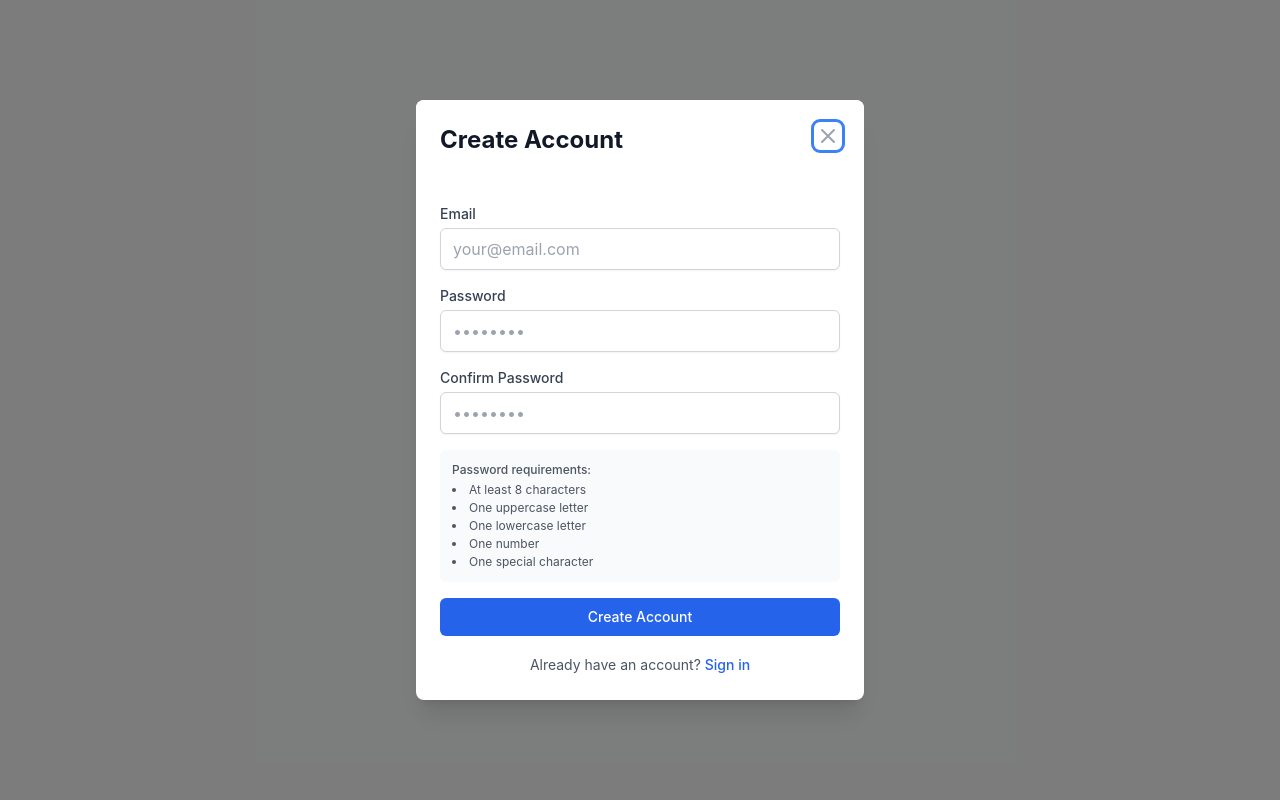
Test case: AuthModal › Sign Up Form › should validate password length
The width and height of the screenshot is (1280, 800).
Type "test@example.com" into the field labelled "Email" at (640, 249), box [440,228,840,270]
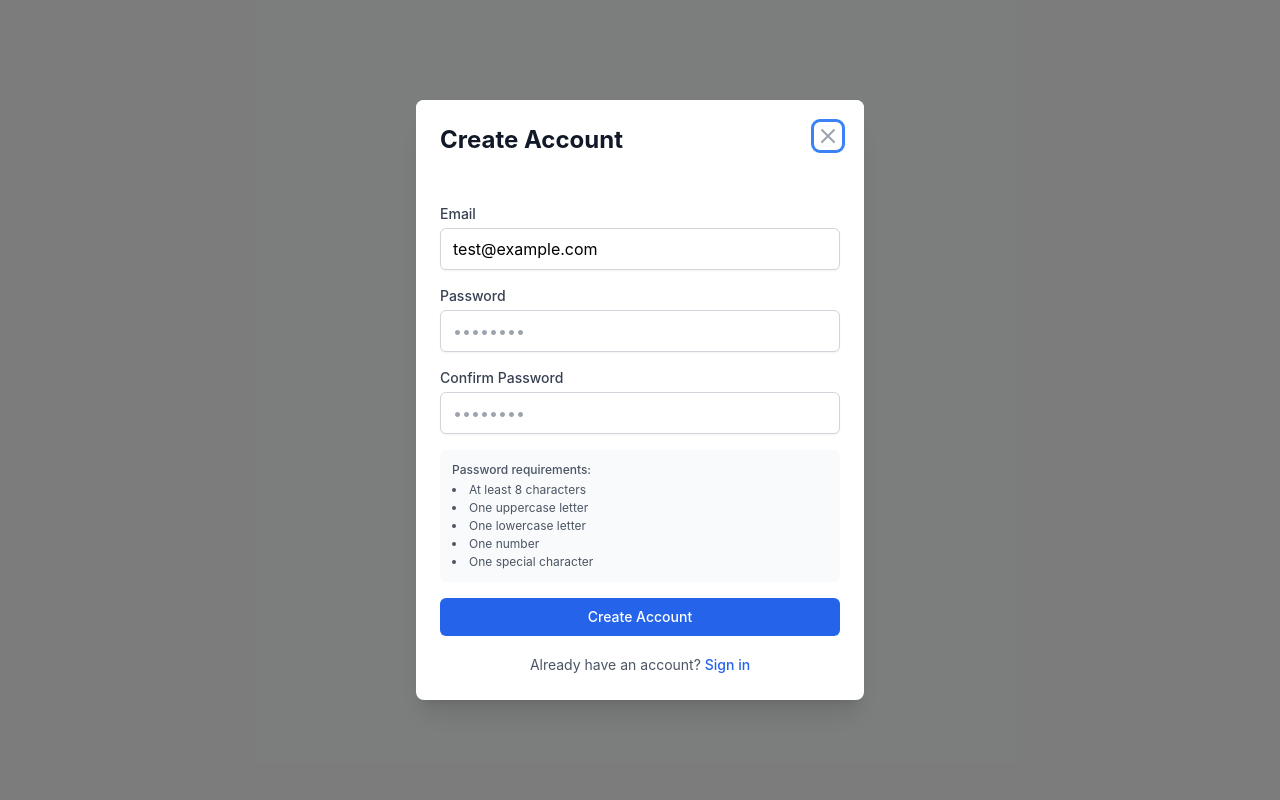
Type "Pass1!" into the password field labelled "Password" at (640, 331), box [440,310,840,352]
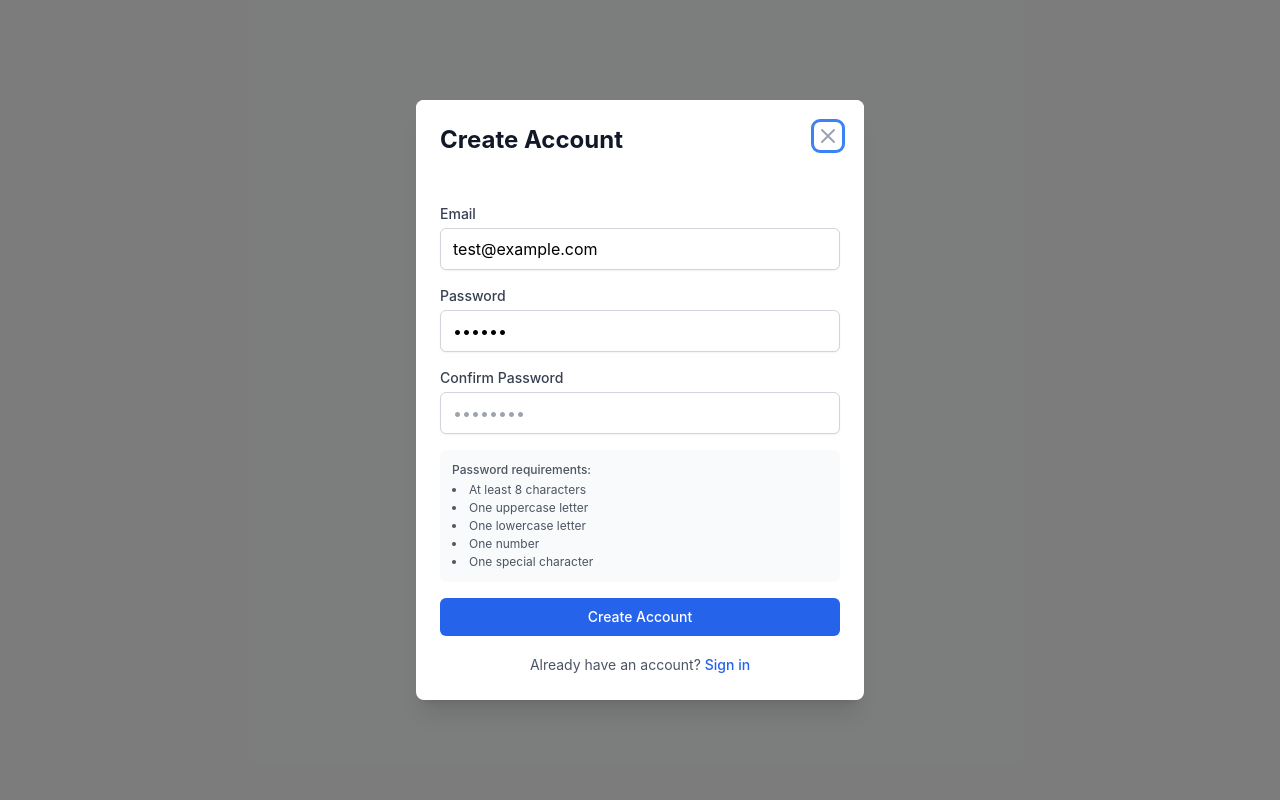
Type "Pass1!" into the password field labelled "Confirm Password" at (640, 413), box [440,392,840,434]
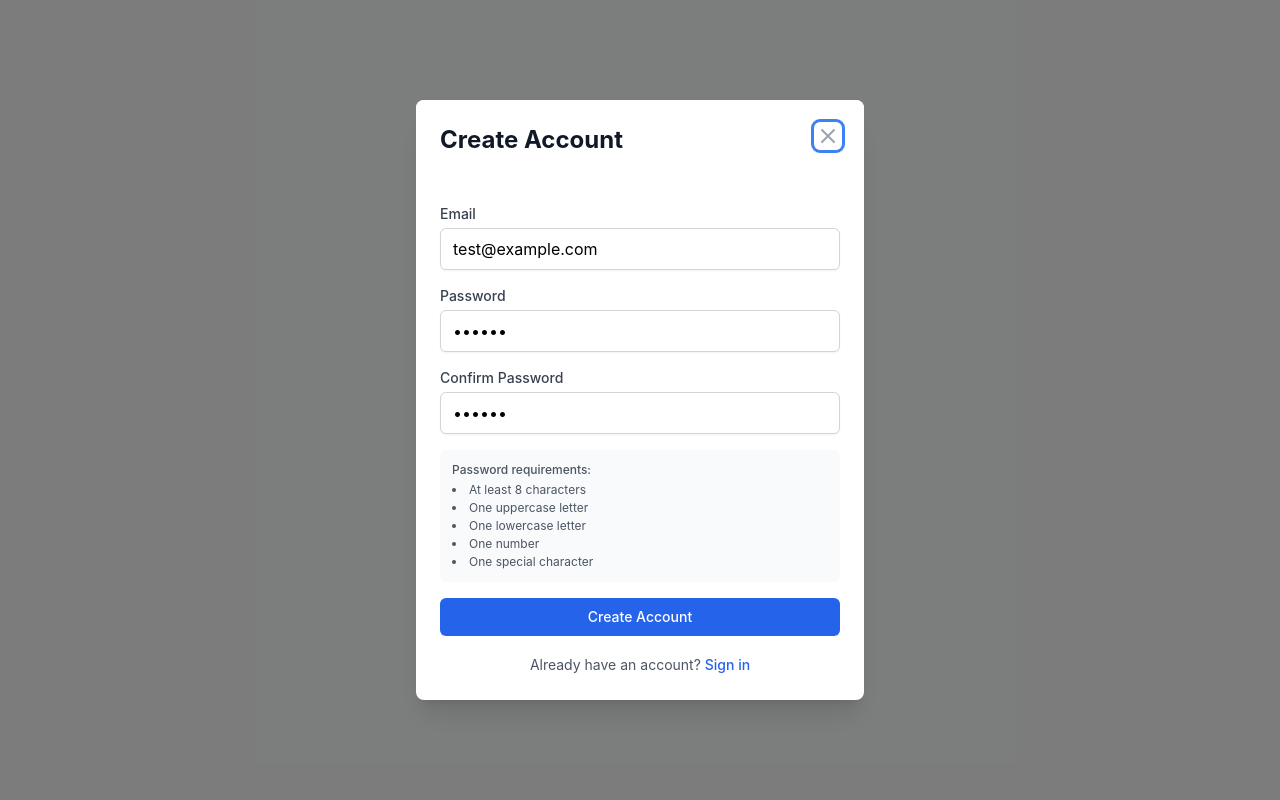
Click the button "Create Account" at (640, 617), box [440,598,840,636]
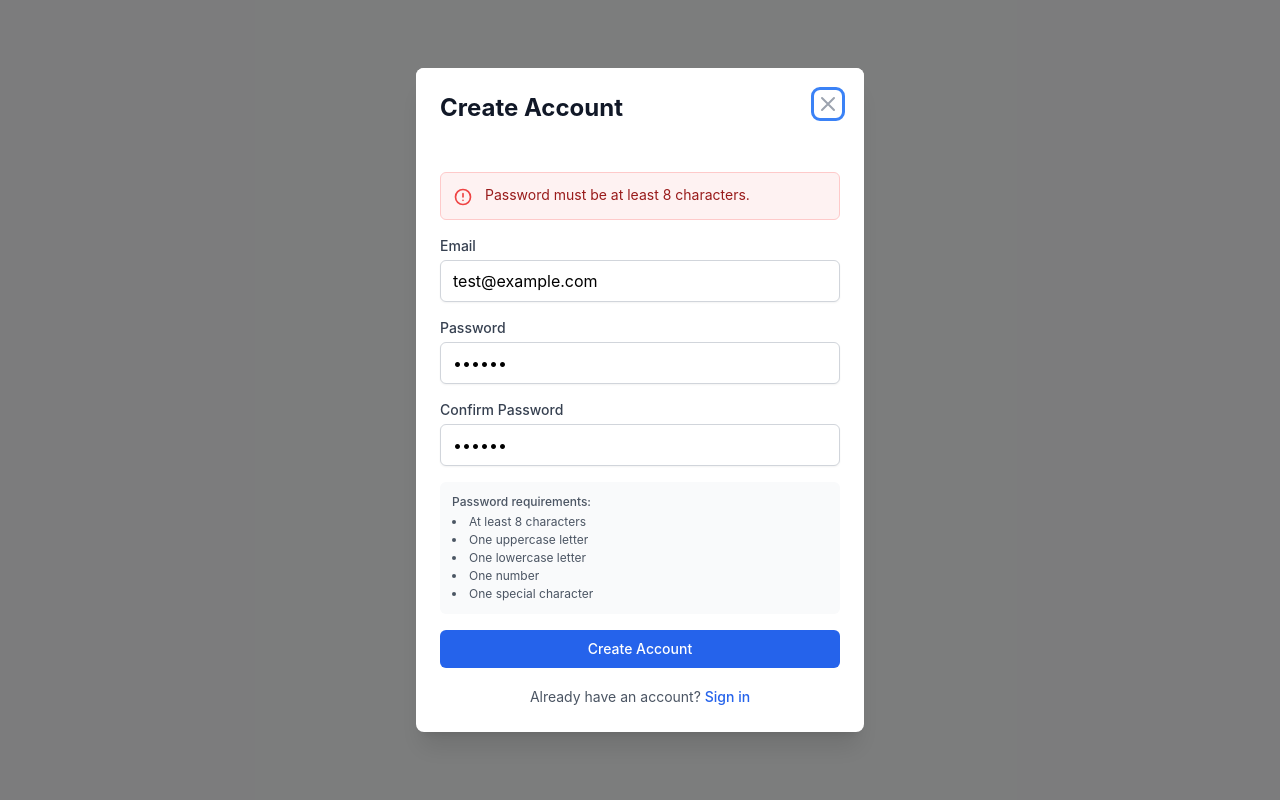
Check: the text "Password must be at least 8 characters." is shown, box [485,185,750,205]
